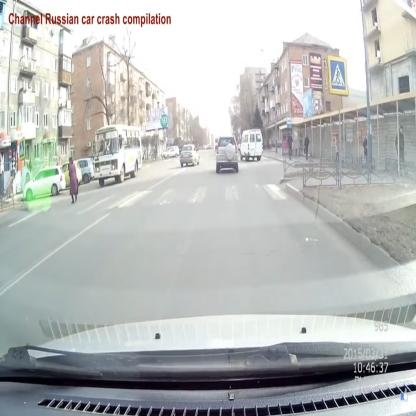crosswalk: (100, 187, 291, 206)
